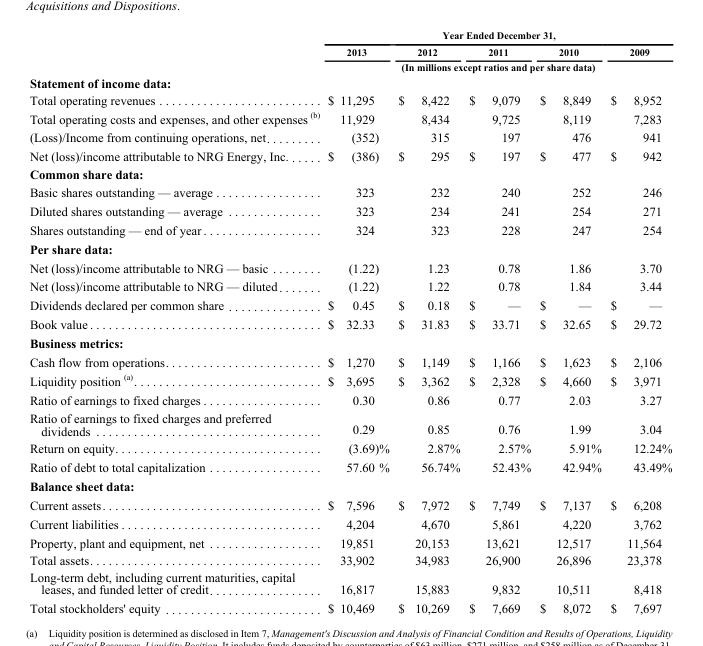table: (28, 29, 671, 615)
table column: (28, 29, 323, 615), (463, 29, 534, 615), (534, 29, 605, 615), (323, 29, 393, 615), (393, 29, 463, 615), (605, 29, 671, 615)
table column header: (28, 29, 671, 74)
table projected row header: (28, 238, 671, 257), (28, 333, 671, 352), (28, 476, 671, 495), (28, 164, 671, 182), (28, 74, 671, 91)
table row: (28, 408, 671, 439), (28, 568, 671, 598), (28, 107, 671, 127), (28, 370, 671, 390), (28, 127, 671, 146), (28, 200, 671, 219), (28, 219, 671, 238), (28, 238, 671, 257), (28, 257, 671, 276), (28, 276, 671, 295), (28, 295, 671, 314), (28, 314, 671, 333), (28, 333, 671, 352), (28, 457, 671, 476), (28, 476, 671, 495), (28, 495, 671, 514), (28, 514, 671, 533), (28, 146, 671, 164), (28, 164, 671, 182), (28, 182, 671, 200), (28, 352, 671, 370), (28, 390, 671, 408), (28, 439, 671, 457), (28, 533, 671, 551), (28, 74, 671, 91), (28, 551, 671, 568), (28, 598, 671, 615), (28, 43, 671, 59), (28, 91, 671, 107), (28, 59, 671, 74), (28, 29, 671, 43)
table spanning cell: (323, 59, 671, 74), (323, 29, 671, 43)
